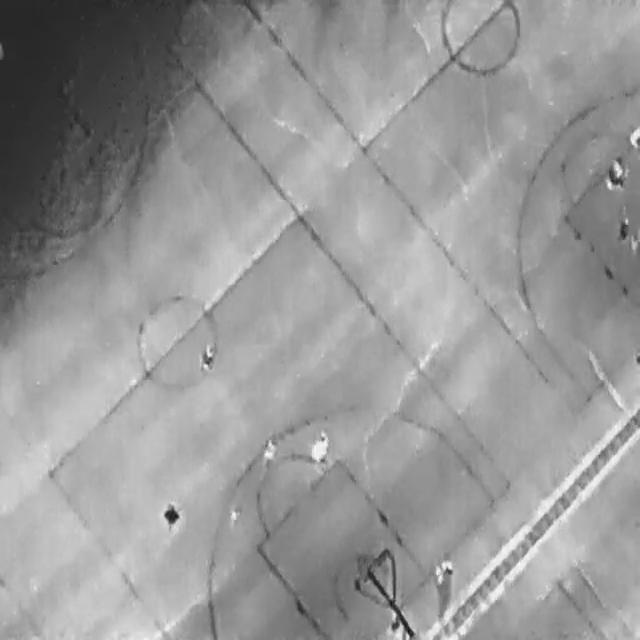Person: (604, 151, 625, 189), (311, 425, 329, 467), (161, 500, 179, 531), (261, 438, 276, 472), (616, 208, 629, 242), (434, 558, 452, 582), (201, 342, 213, 370)
